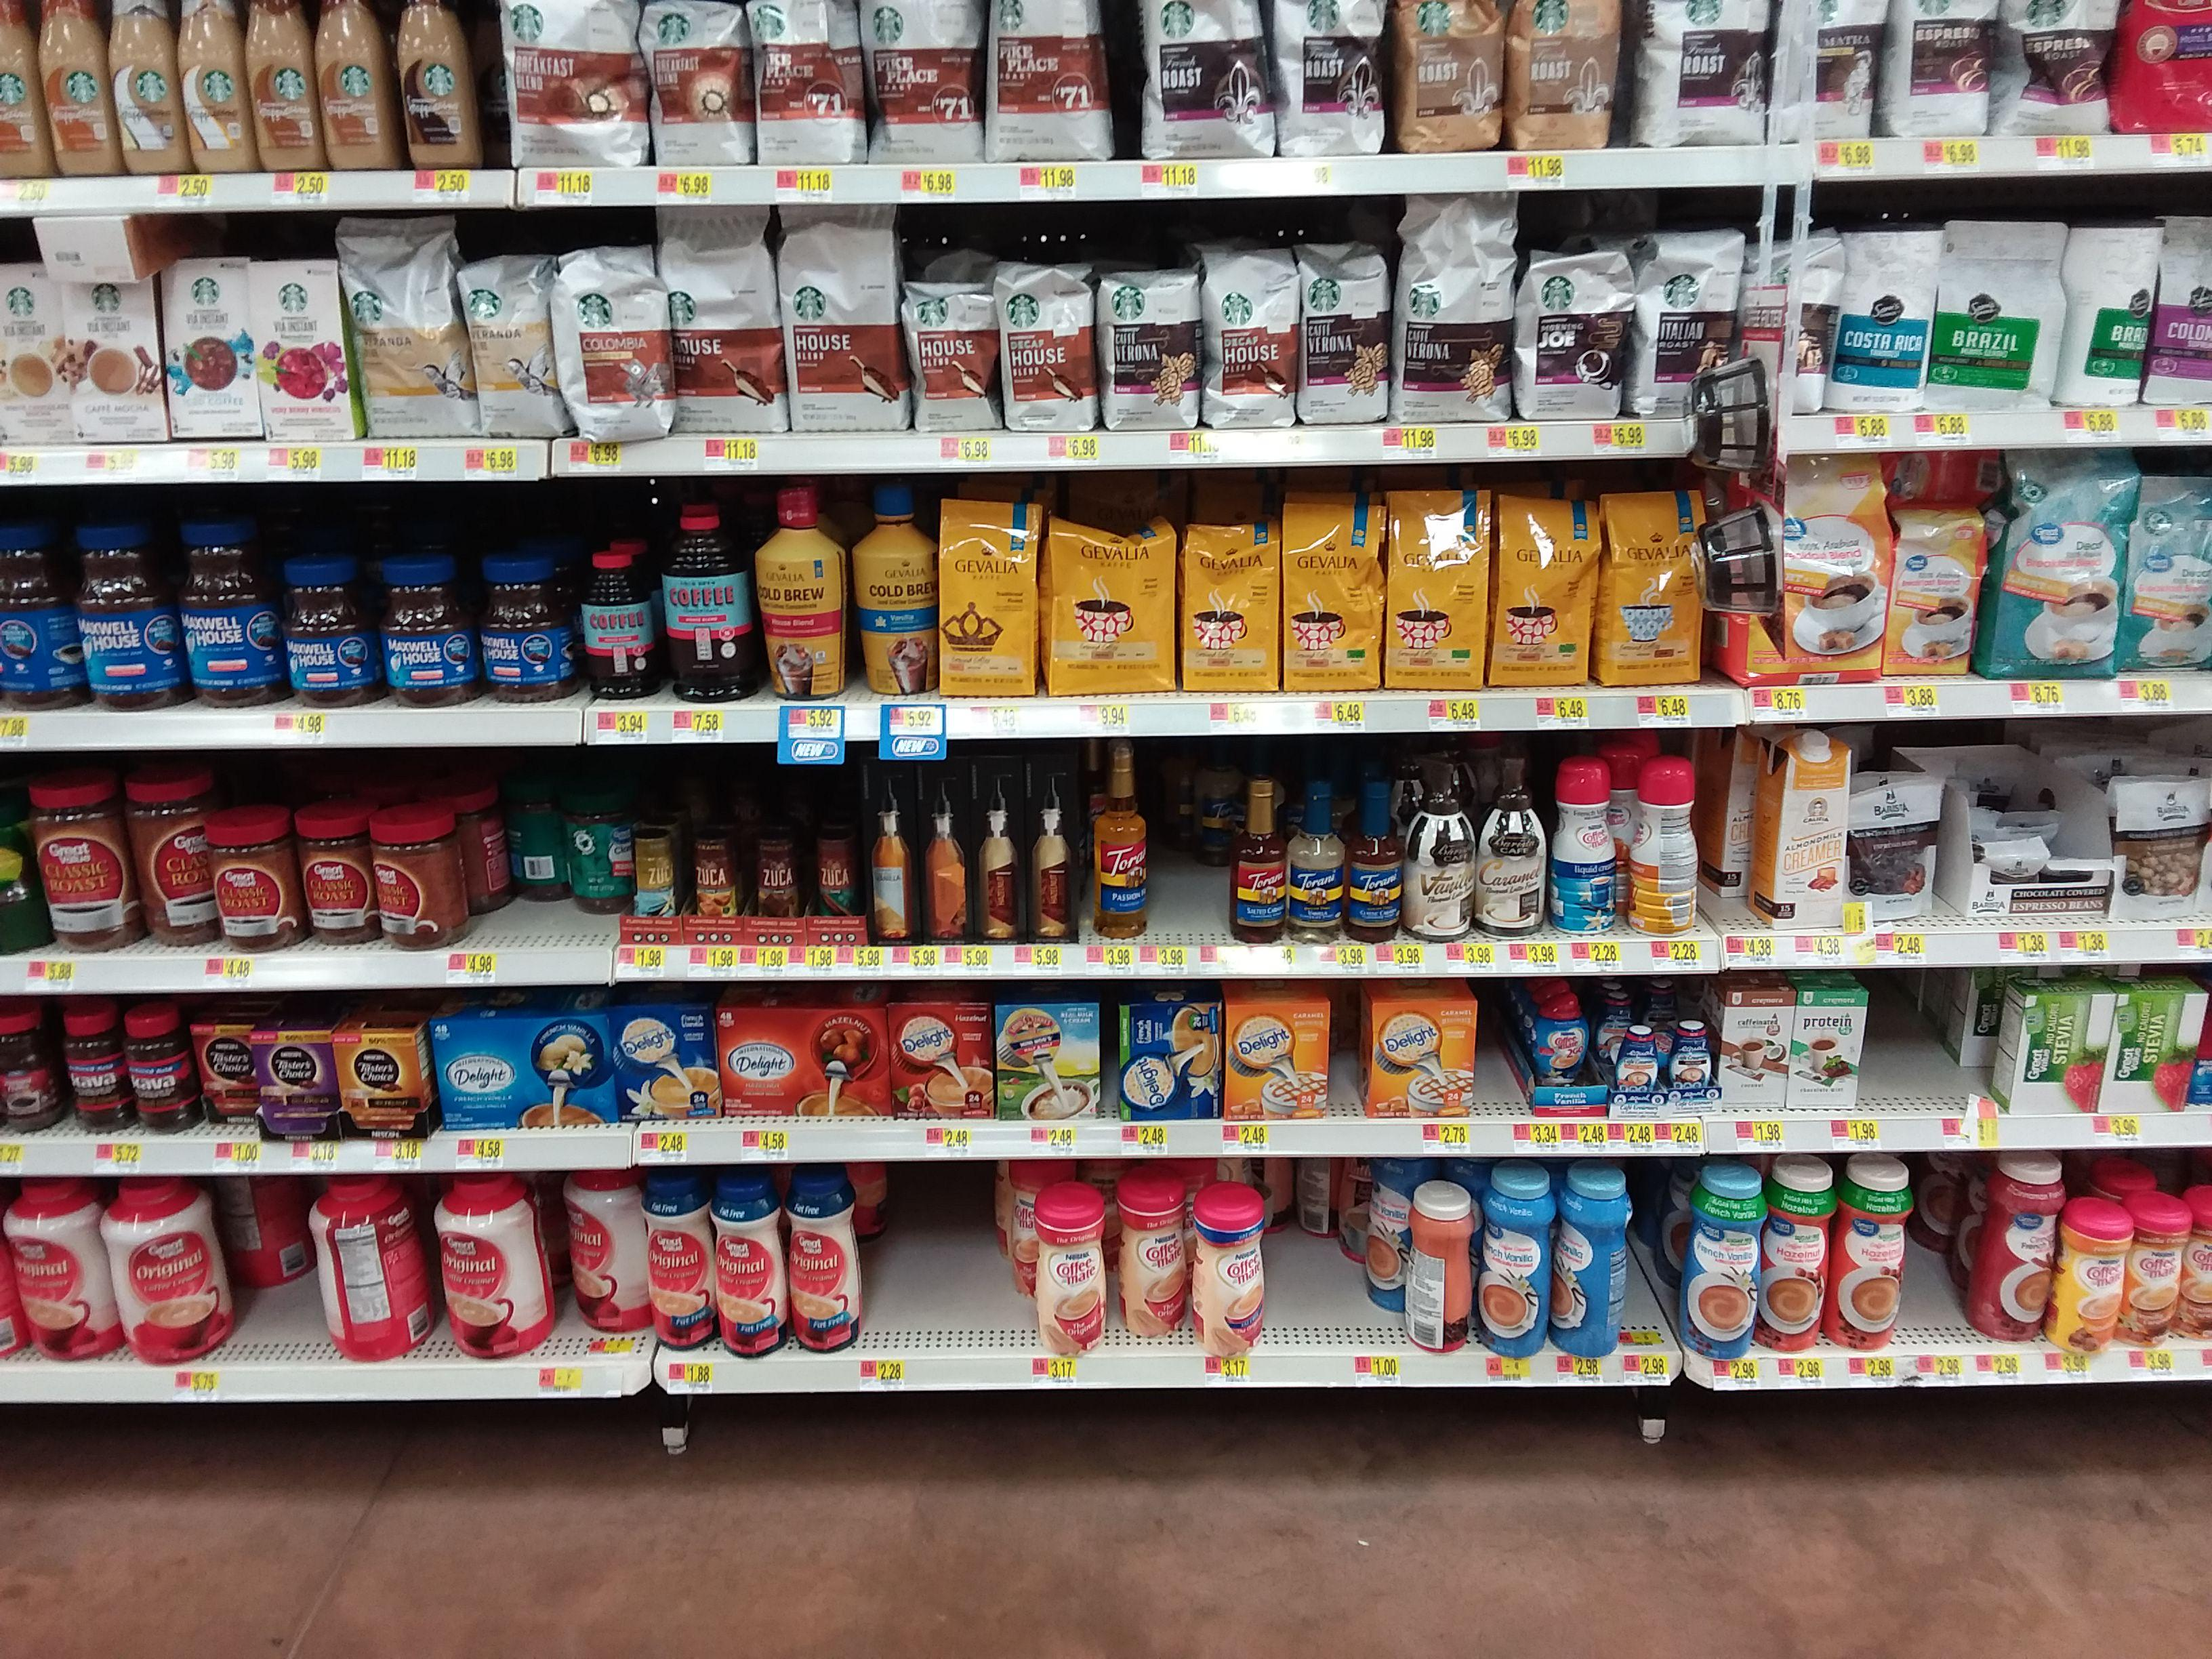empty: (871, 1180, 1005, 1347), (1900, 1192, 1993, 1354), (1266, 1204, 1359, 1364), (1867, 967, 1968, 1114), (1158, 788, 1231, 943)
